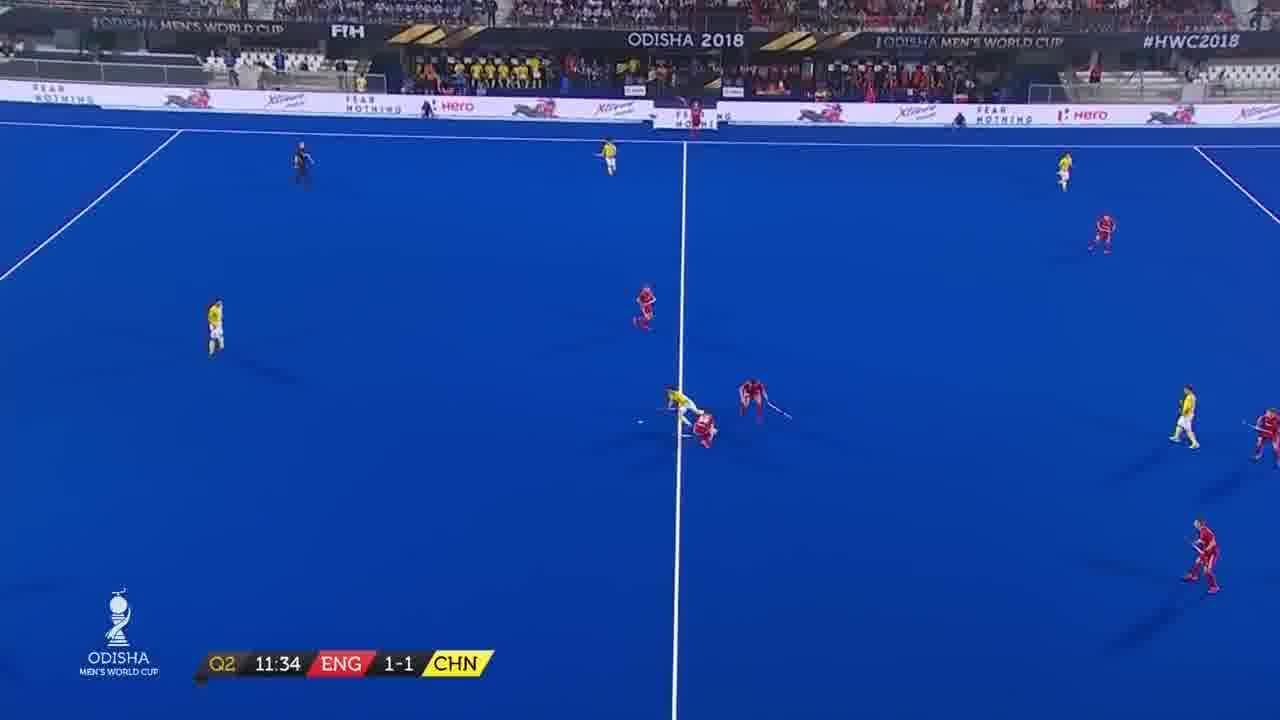ball: (632, 408, 654, 438)
